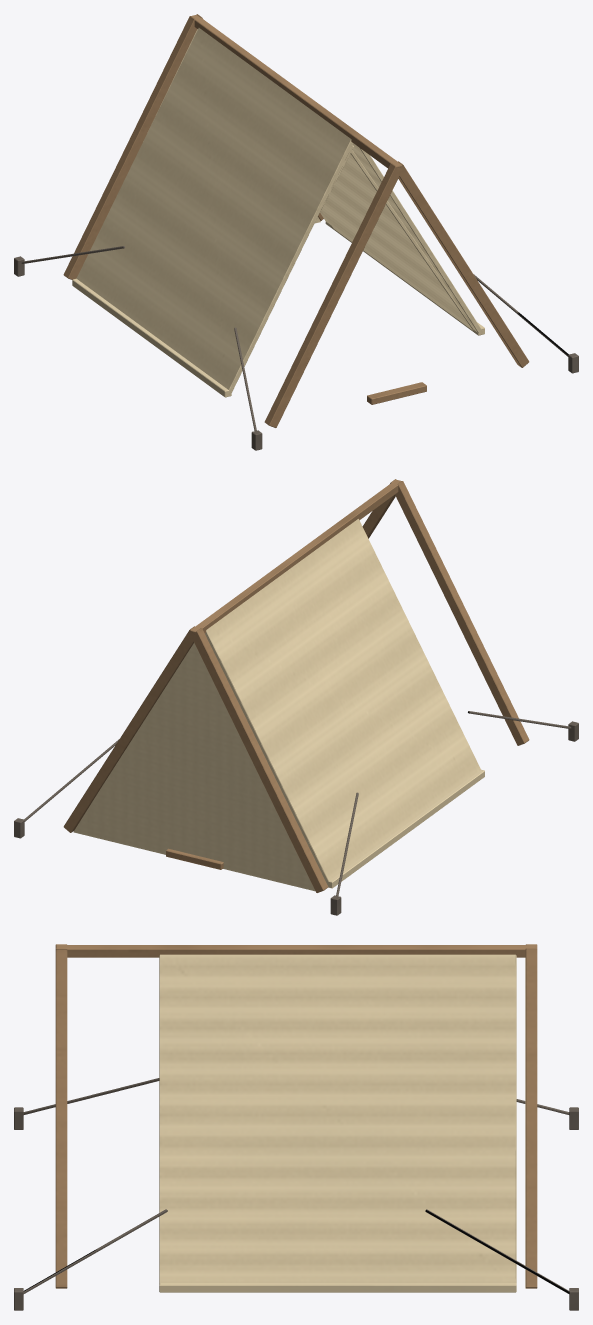
File: tent_canvas_small.glb
3 renders of one model, top to bottom at view 1: azimuth 30°, elevation 25°; view 2: azimuth 150°, elevation 25°; view 3: azimuth 270°, elevation 25°, orthographic. The views are drawn at different scales.
Visible parts, largest first — view 1: tent_canvas_small; view 2: tent_canvas_small; view 3: tent_canvas_small.
Part boxes in pixels (x1=…): tent_canvas_small: x1=14, y1=14, x2=578, y2=450; tent_canvas_small: x1=14, y1=479, x2=578, y2=915; tent_canvas_small: x1=14, y1=944, x2=578, y2=1310.
Size of the model in its own units: 2.05 by 1.41 by 2.64.
1 material, 1 textured.
